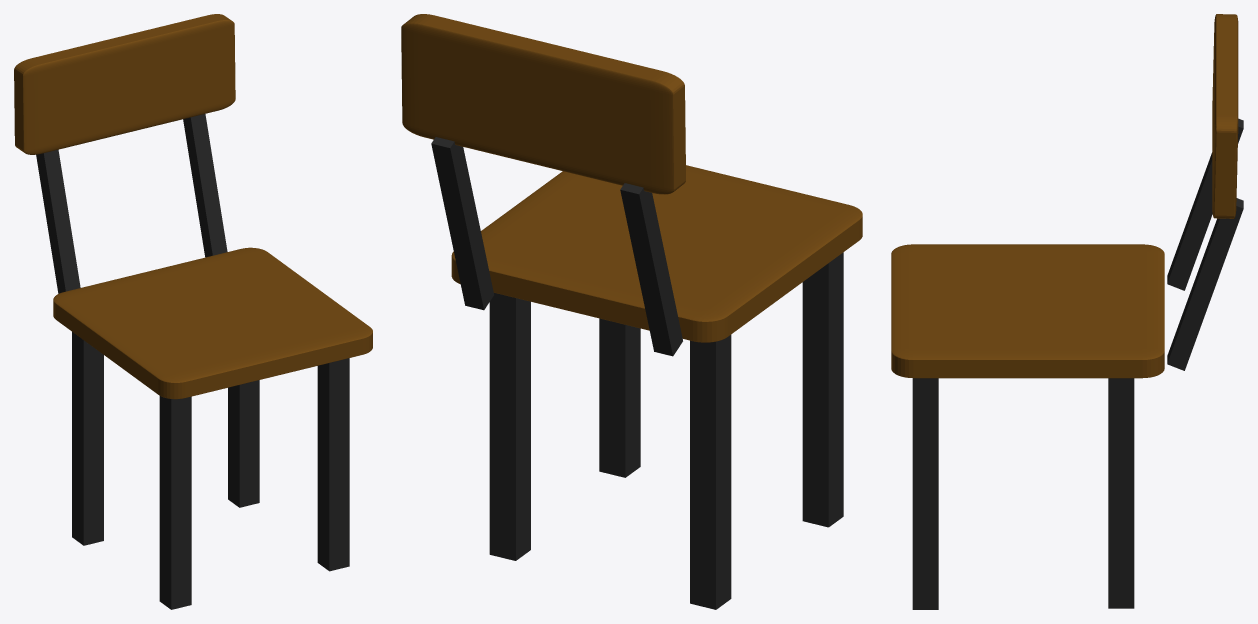
The model's file is Chair.fbx.
The picture shows the model from 3 angles, left to right: view 1: azimuth 30°, elevation 25°; view 2: azimuth 150°, elevation 25°; view 3: azimuth 270°, elevation 25°; orthographic projection. The views are drawn at different scales.
Visible parts, largest first — view 1: Cube.010, Cube.013, Chair, Cube.023, Cube.021, Cube.020, Cube.014, Cube.016; view 2: Cube.010, Cube.013, Cube.021, Cube.020, Chair, Cube.023, Cube.016, Cube.014; view 3: Cube.010, Cube.023, Cube.020, Cube.013, Cube.016, Cube.014.
Part boxes in pixels (box(x1,y1,x2,y2)): Cube.010: box(53, 247, 372, 399); Cube.013: box(14, 14, 235, 154); Chair: box(159, 396, 191, 609); Cube.023: box(317, 358, 349, 571); Cube.021: box(72, 332, 103, 545); Cube.020: box(228, 380, 259, 507); Cube.014: box(36, 149, 80, 293); Cube.016: box(183, 114, 227, 257); Cube.010: box(451, 165, 862, 342); Cube.013: box(401, 14, 685, 194); Cube.021: box(690, 335, 731, 609); Cube.020: box(489, 293, 530, 560); Chair: box(802, 252, 843, 527); Cube.023: box(599, 318, 640, 477); Cube.016: box(431, 137, 493, 310); Cube.014: box(620, 183, 682, 356); Cube.010: box(891, 244, 1164, 378); Cube.023: box(912, 378, 938, 609); Cube.020: box(1108, 378, 1134, 608); Cube.013: box(1212, 14, 1238, 218); Cube.016: box(1167, 198, 1243, 370); Cube.014: box(1167, 118, 1243, 290).
Bounding box in the file's own units: 83.57 × 168 × 108.
